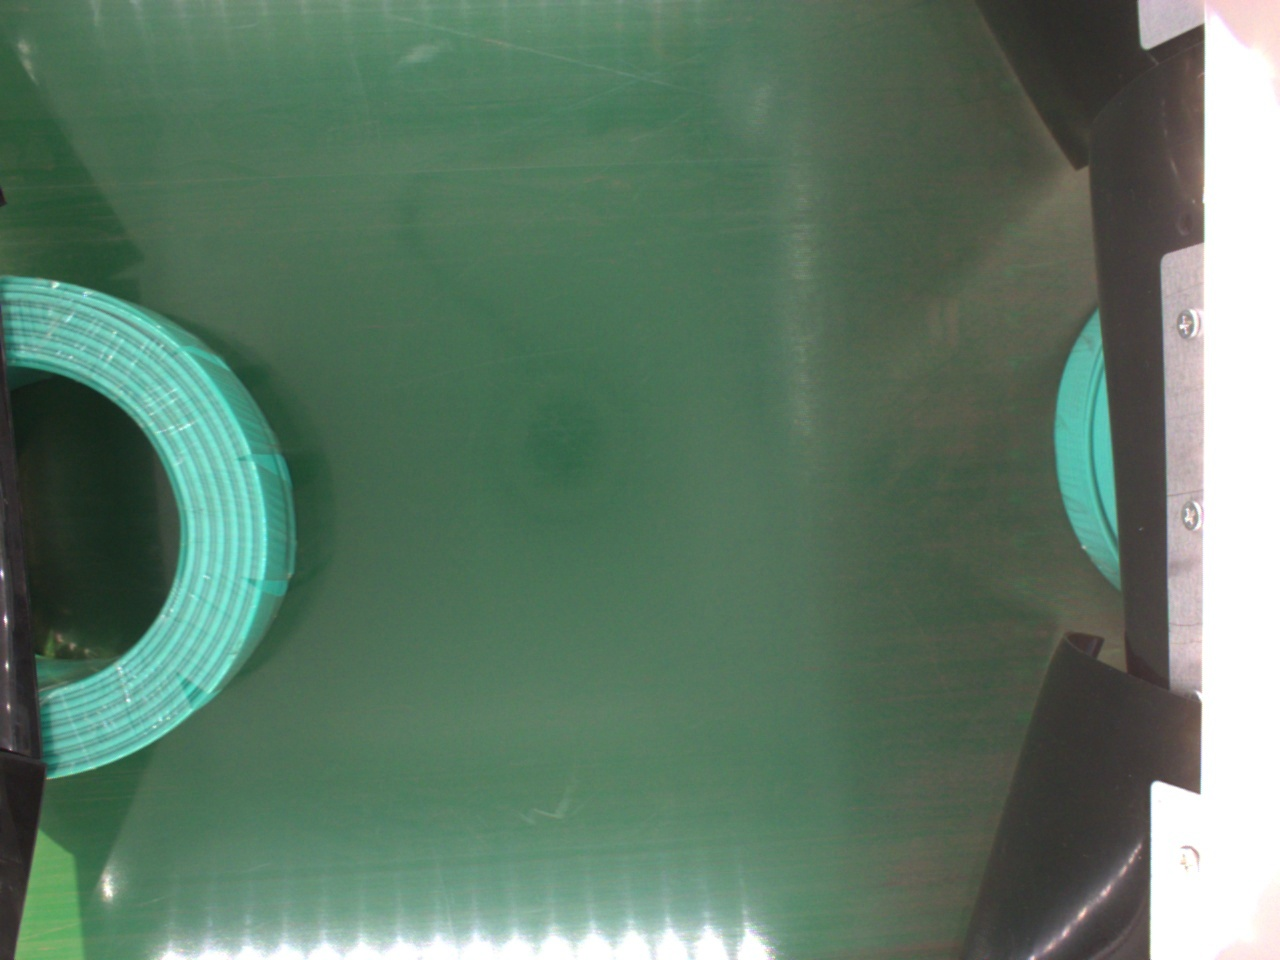green: (0, 278, 296, 781)
